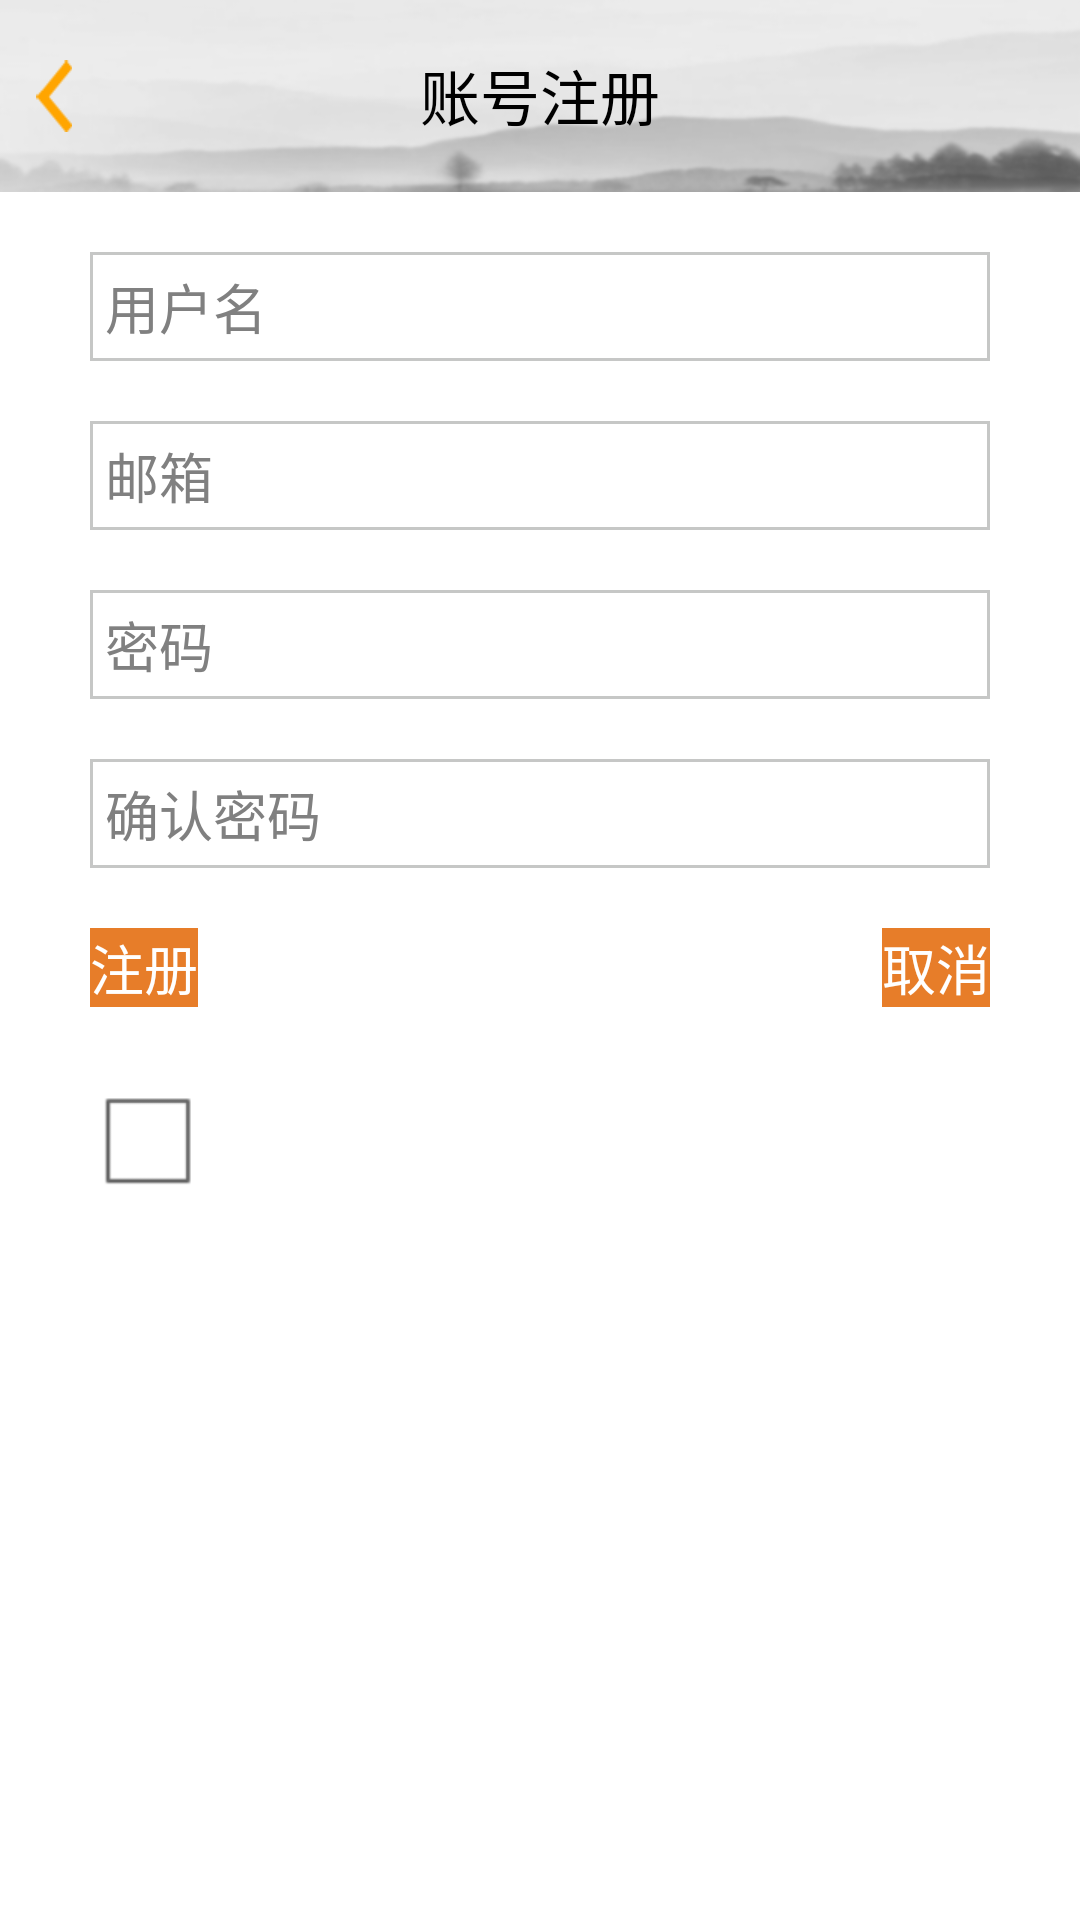

Icon bounding boxes for this 1080px×1920px phone screenshot, format (x1, y1, x2, y2):
back: (36, 60, 72, 132)
